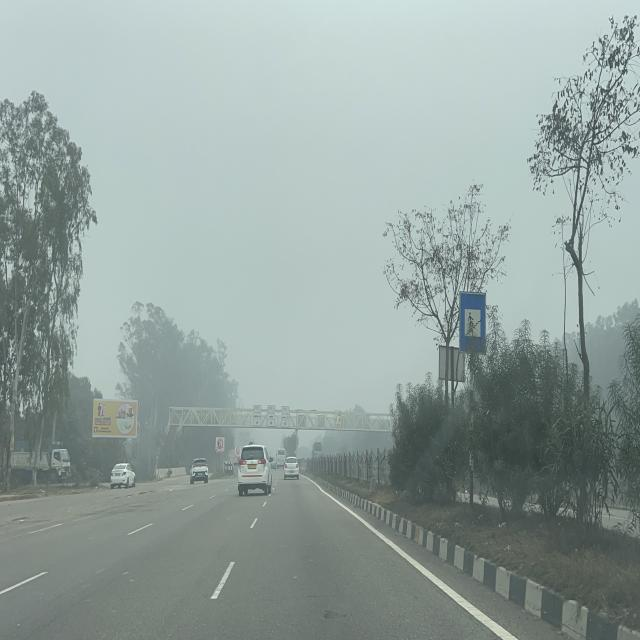INFORMATION: (459, 291, 487, 355)
